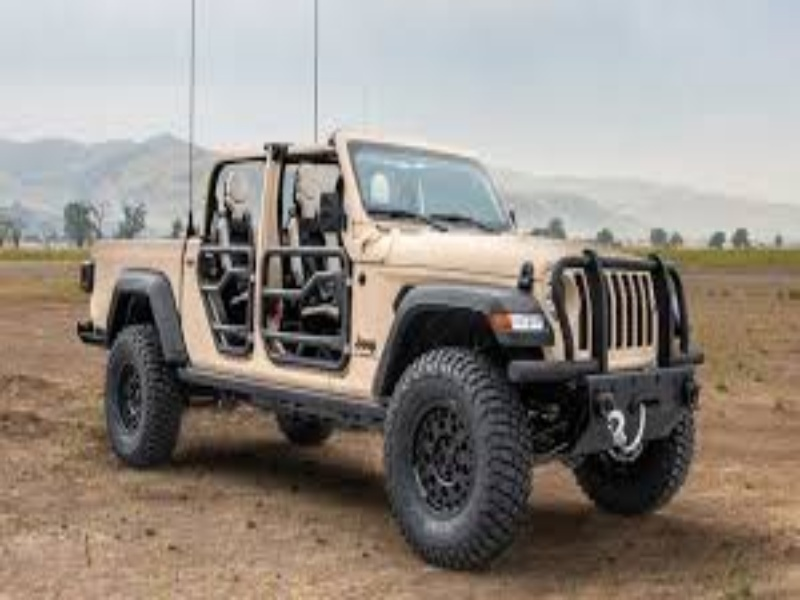jeep: (76, 119, 706, 582)
